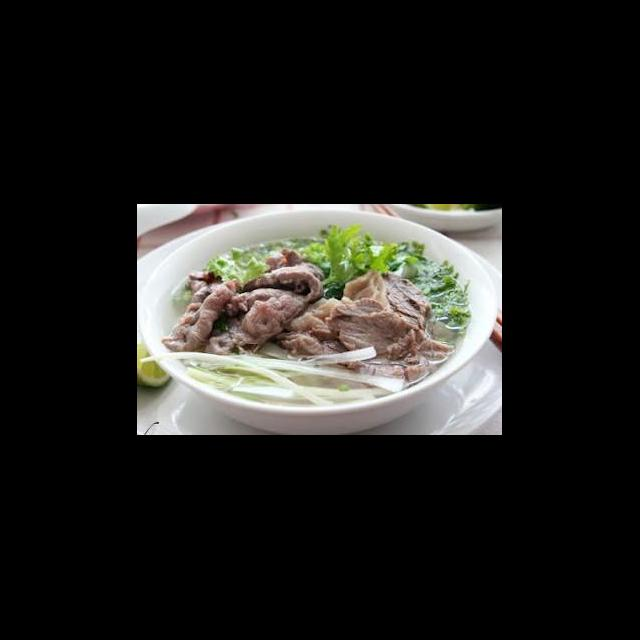thit bo: (268, 324, 457, 386), (278, 266, 392, 342), (200, 284, 312, 358), (160, 274, 242, 356), (322, 296, 422, 362), (232, 246, 328, 308), (372, 268, 434, 334)
